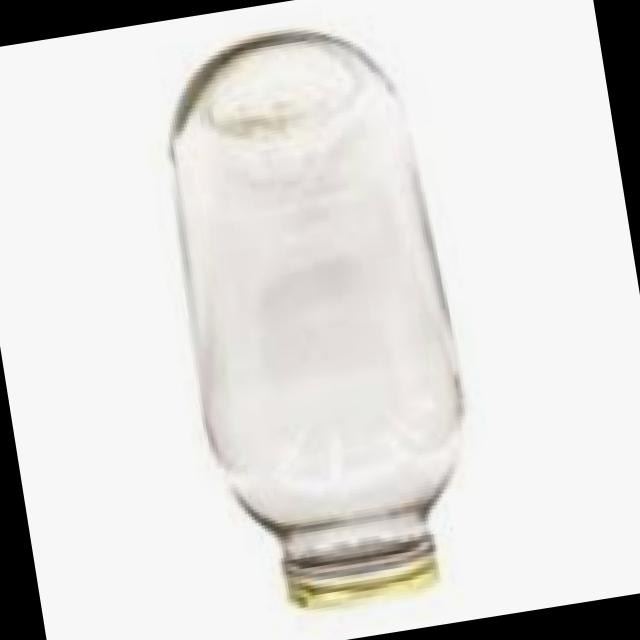ToplesKaca: (142, 14, 496, 629)
